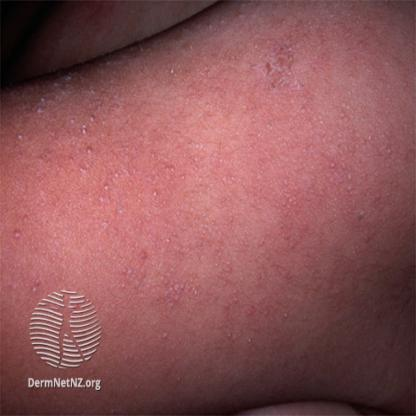Chicken Skin: (49, 8, 389, 355)
